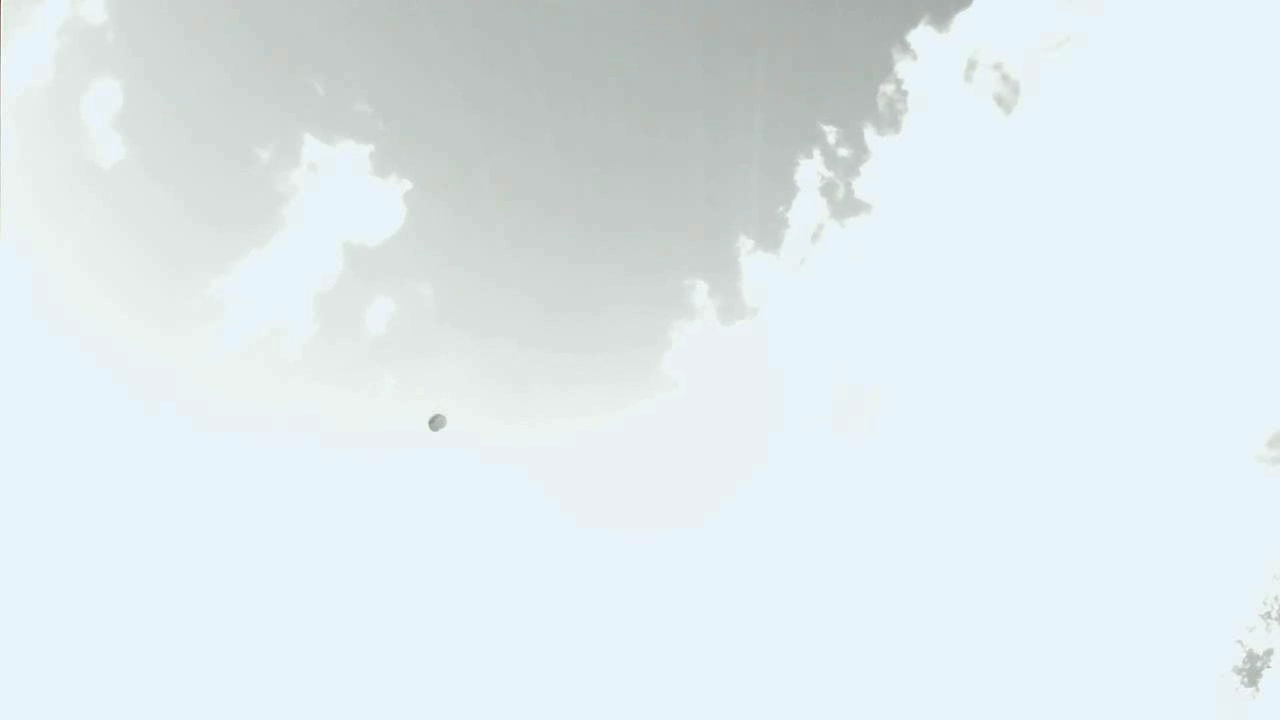Football-Spotter: (428, 414, 446, 431)
